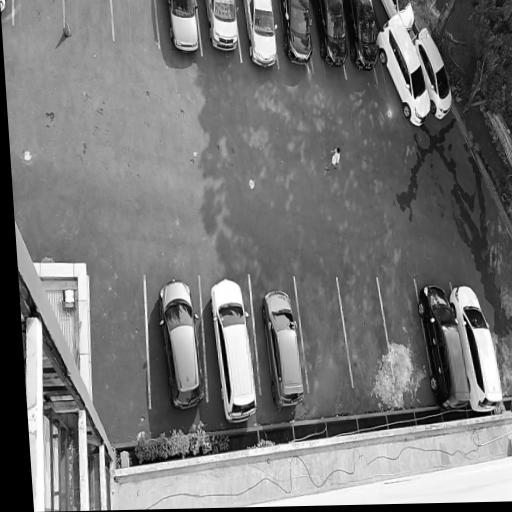Car: (414, 277, 473, 410), (208, 275, 260, 425), (448, 281, 506, 413), (376, 9, 434, 128), (157, 275, 206, 410), (260, 286, 308, 412), (411, 22, 456, 123), (242, 0, 281, 70), (312, 0, 351, 69), (345, 0, 382, 72), (280, 0, 314, 68), (200, 0, 241, 52), (164, 0, 202, 54), (381, 0, 417, 33)
Space Available: (98, 273, 149, 410), (295, 275, 353, 392), (338, 276, 394, 386), (377, 276, 432, 380), (111, 0, 160, 48), (64, 0, 113, 41), (13, 0, 64, 29)
